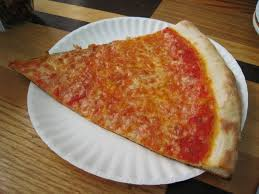pizza: (9, 23, 246, 189)
